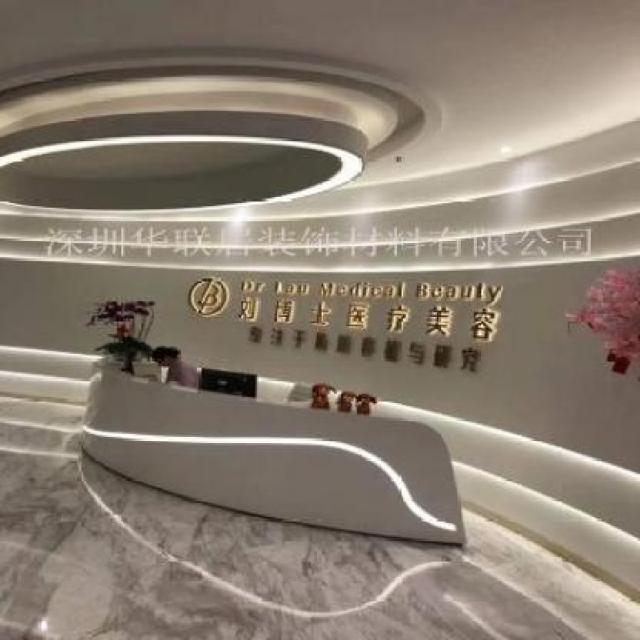frontdesk: (67, 343, 476, 560)
